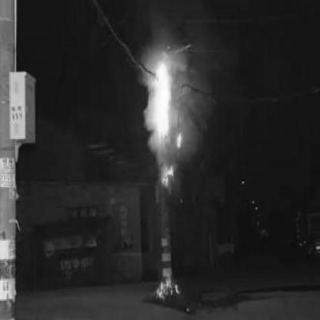Fire: (136, 44, 192, 186)
